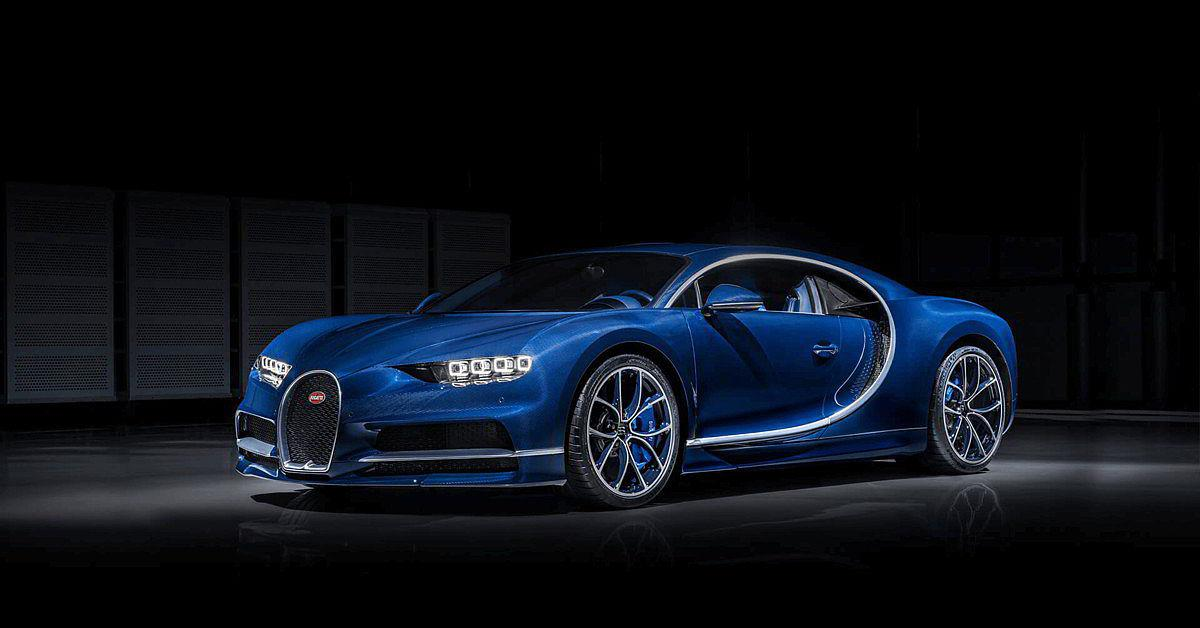car: (222, 229, 1035, 518)
